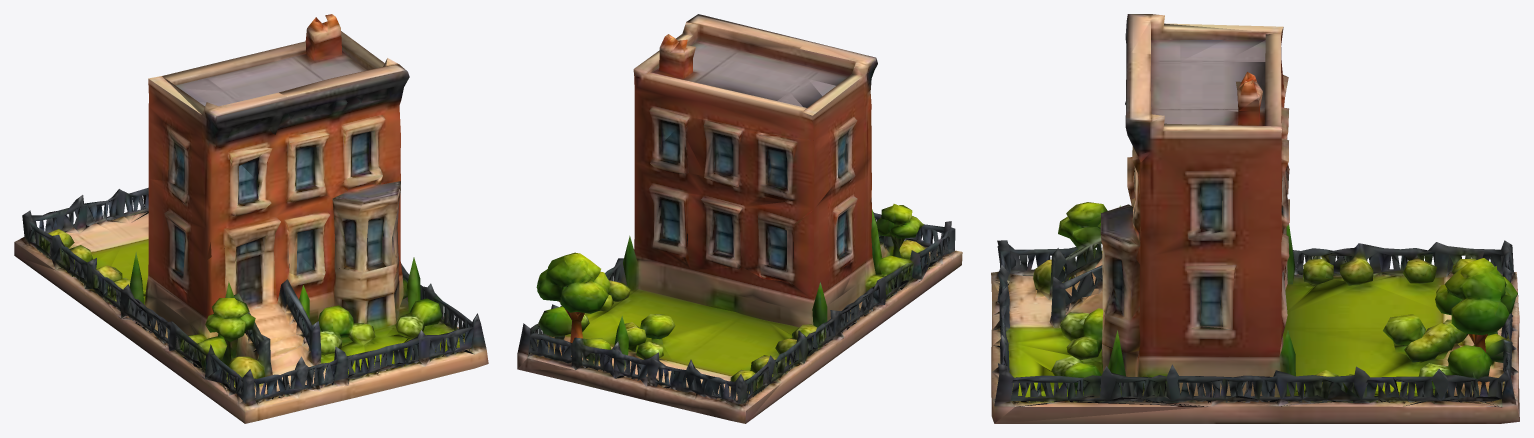
The model's file is house-townhouse.glb.
The picture shows the model from 3 angles, left to right: view 1: azimuth 30°, elevation 25°; view 2: azimuth 150°, elevation 25°; view 3: azimuth 270°, elevation 25°; orthographic projection. The views are drawn at different scales.
Parts seen in each view (by area): view 1: low; view 2: low; view 3: low.
Part boxes in pixels (x1,y1,x2,y2): low: [14, 14, 488, 423]; low: [517, 14, 962, 423]; low: [991, 14, 1519, 423].
Size of the model in its own units: 0.5965 by 0.6461 by 0.9793.
Materials: 1 (1 with a texture image).
